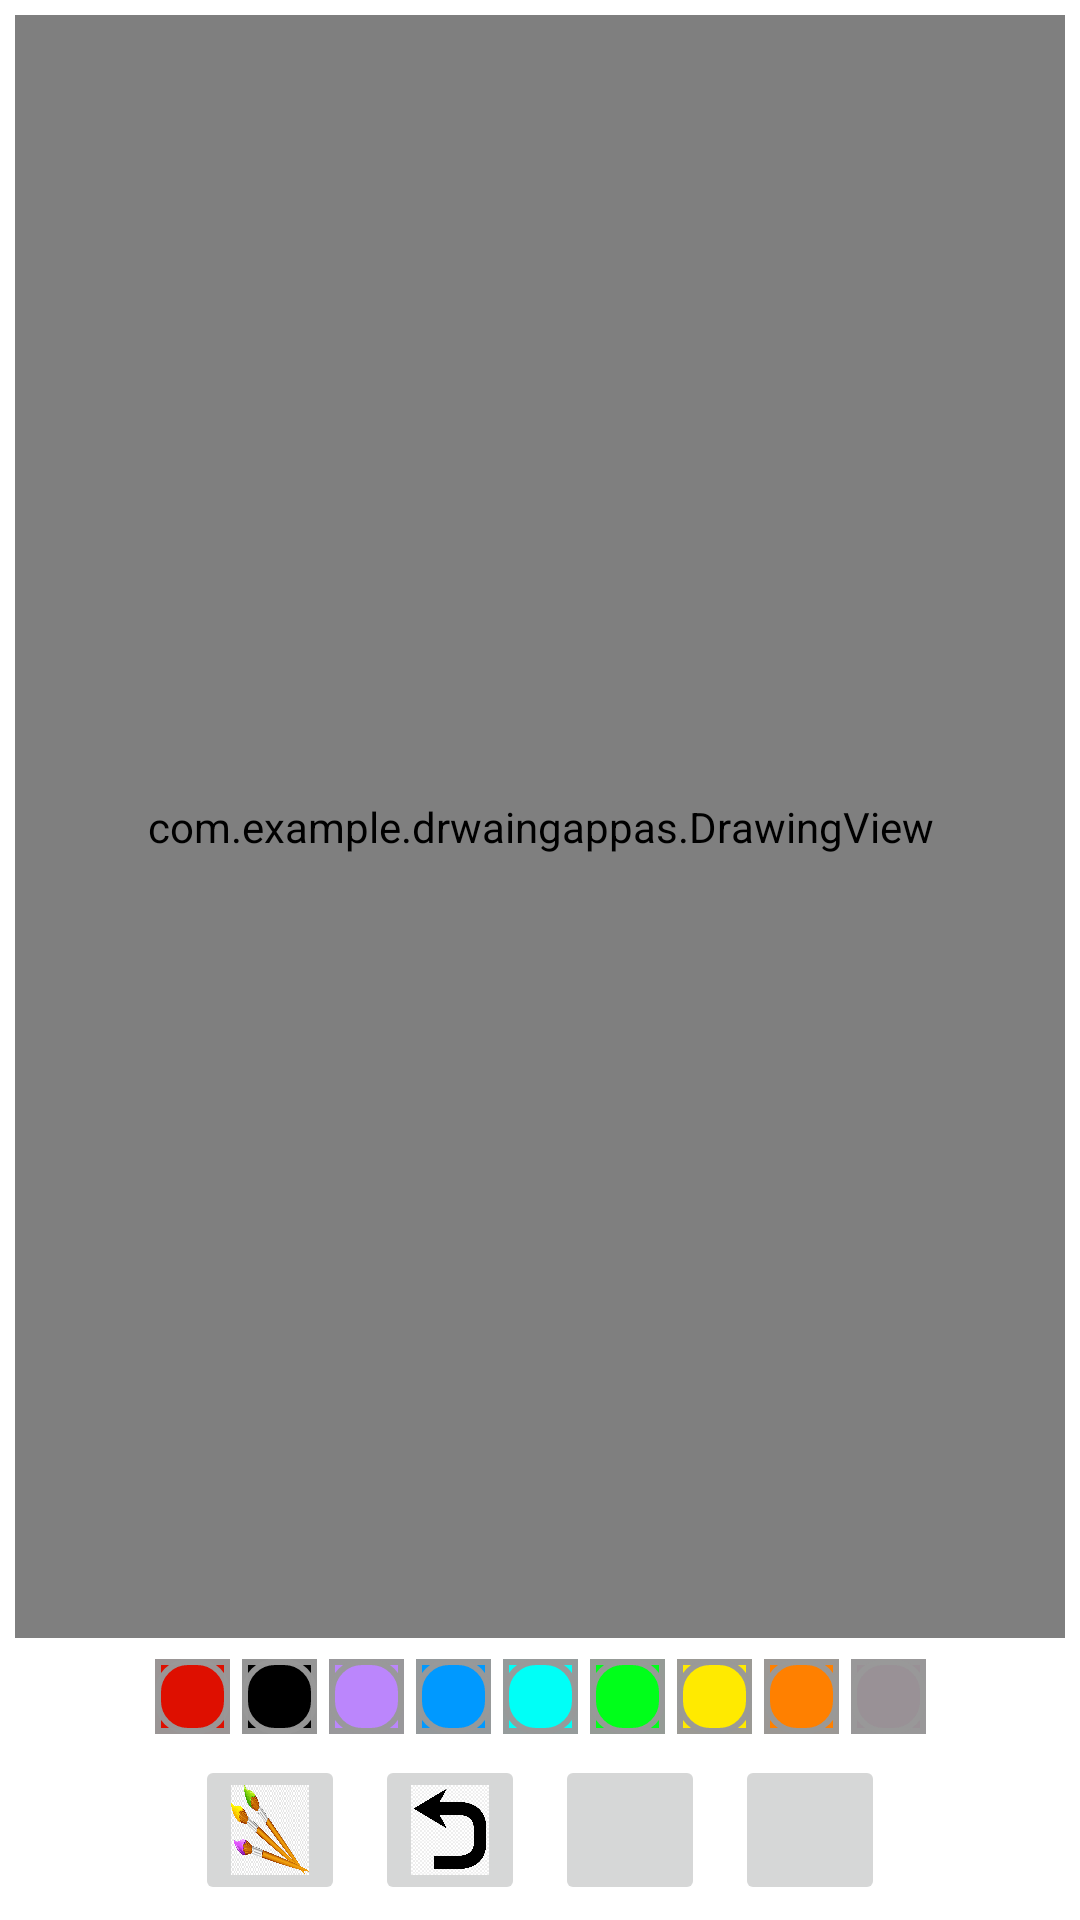

Where to tap for icons on this 1080px×1920px app screen, as point (x, y):
back: point (450, 1830)
brush: point (270, 1830)
